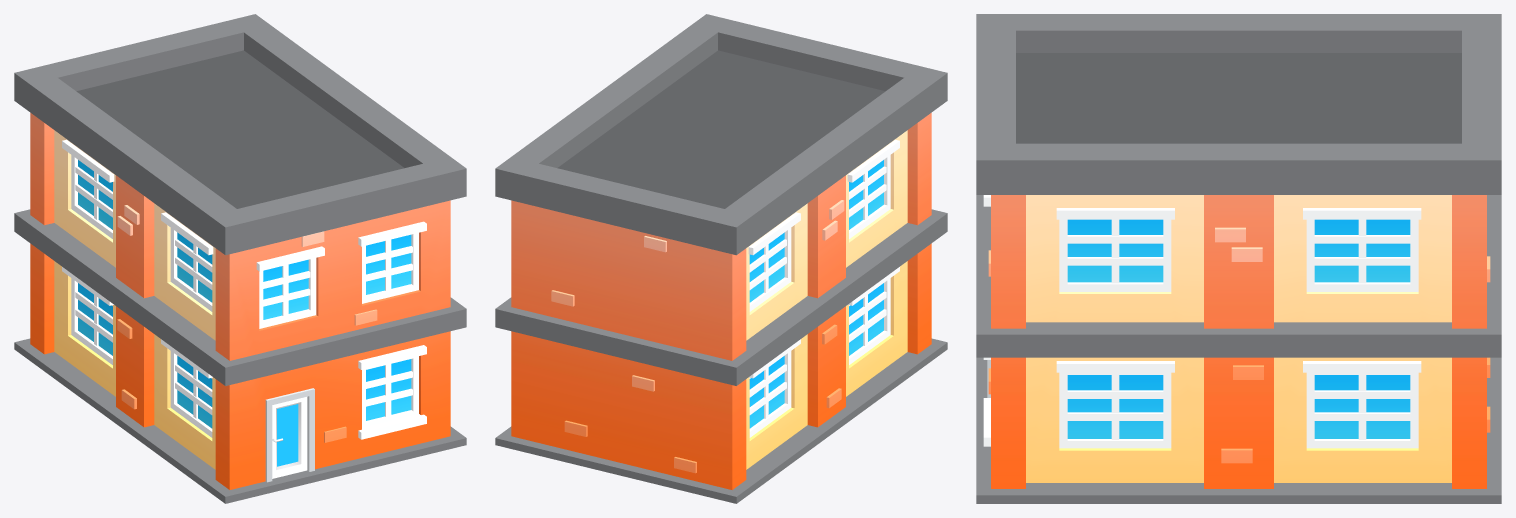
Rendered from city2-building-living-09.glb.
3 renders of one model, left to right at view 1: azimuth 30°, elevation 25°; view 2: azimuth 150°, elevation 25°; view 3: azimuth 270°, elevation 25°, orthographic. The views are drawn at different scales.
Parts seen in each view (by area): view 1: Building_Living_09; view 2: Building_Living_09; view 3: Building_Living_09.
Part boxes in pixels (x1,y1,x2,y2): Building_Living_09: (14,14,466,503); Building_Living_09: (495,14,947,503); Building_Living_09: (976,14,1501,503).
Bounding box in the file's own units: 7.15 × 7.83 × 10.84.
1 material, 1 textured.
